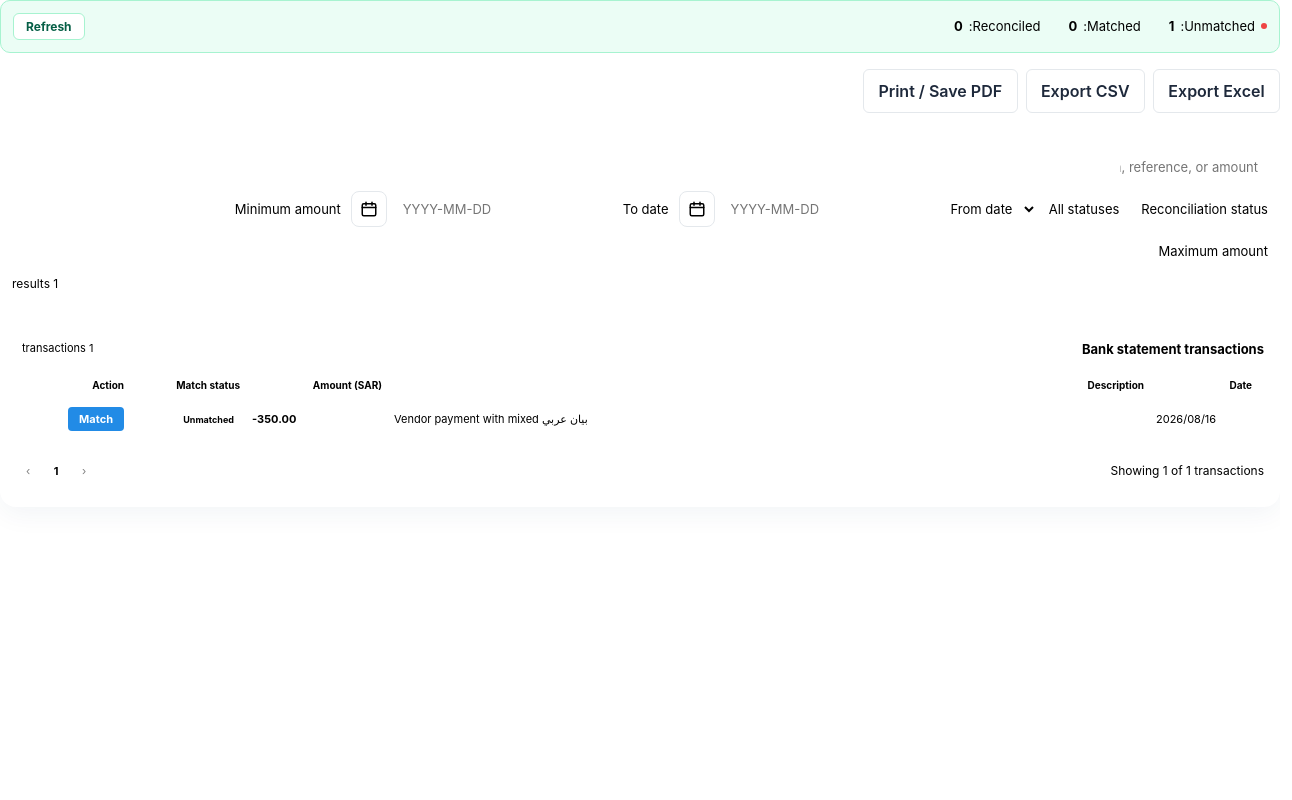
BankTransactionsView › uses a selected row and detail pane while keeping bank metadata secondary
The width and height of the screenshot is (1292, 800).
Expected: the text "2026/08/16" is shown, [1156,412,1216,426]
Expected: the text "-350.00" is shown, [252,412,296,426]
What coordinates should you click on to do the following:
click the text "Vendor payment with mixed بيان عربي"
I would click on:
 (1186, 419)
Its box is [16,399,1264,439].
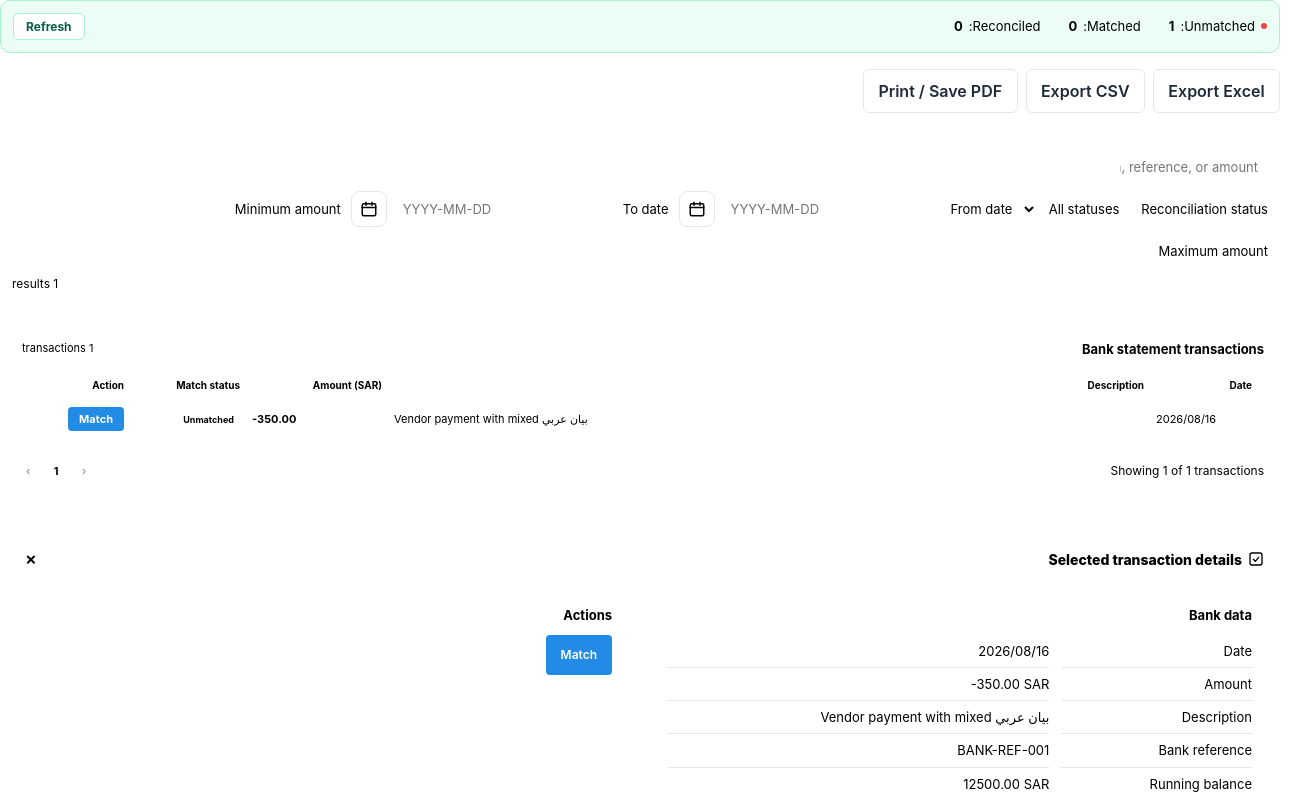
Expected: the text "12500.00 SAR" is shown, [668,768,1049,799]
Expected: the button named "Close" is shown, [16,539,46,579]
